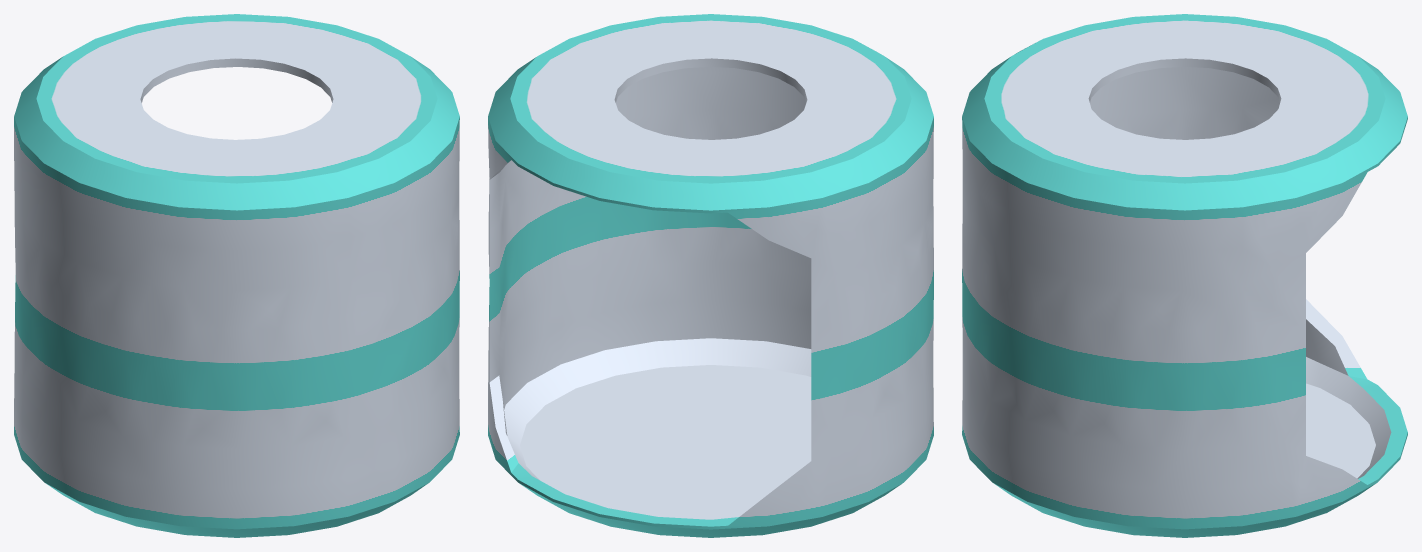
The model's file is thickFloor_w_pipe.fbx.
3 views of the same model, side by side, from view 1: azimuth 30°, elevation 25°; view 2: azimuth 150°, elevation 25°; view 3: azimuth 270°, elevation 25° (orthographic).
Visible parts, largest first — view 1: thickFloor_w_pipe; view 2: thickFloor_w_pipe; view 3: thickFloor_w_pipe.
Boxes of the visible parts, x1,y1,x2,y2 form: thickFloor_w_pipe: (14, 14, 459, 537); thickFloor_w_pipe: (488, 14, 933, 537); thickFloor_w_pipe: (962, 14, 1407, 537).
Bounding box in the file's own units: 16.8 × 14.78 × 16.8.
1 material, 1 textured.
